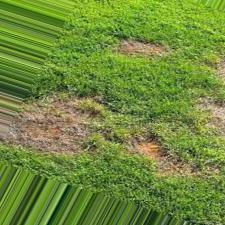patch: (125, 130, 182, 171), (35, 100, 76, 154), (113, 33, 156, 57), (192, 89, 218, 124), (79, 98, 100, 141)
